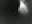person: (19, 1, 30, 17)
